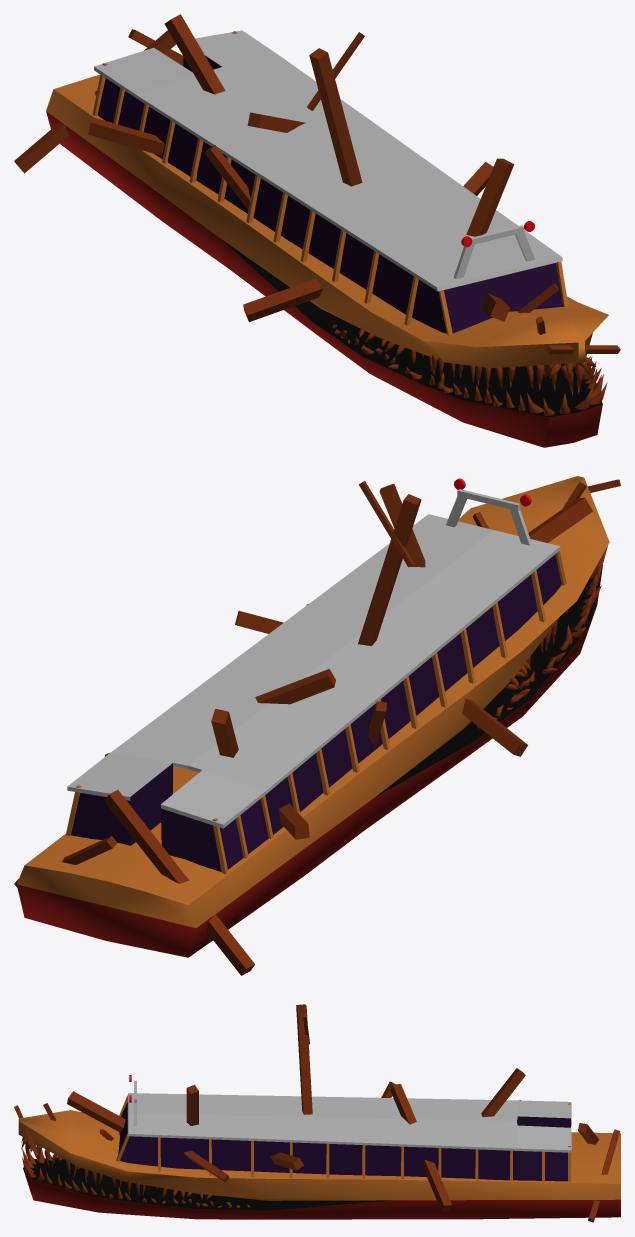
Rendered from enemy.glb.
3 views of the same model, one above another, from view 1: azimuth 30°, elevation 25°; view 2: azimuth 150°, elevation 25°; view 3: azimuth 270°, elevation 25° (orthographic). The views are drawn at different scales.
Visible parts, largest first — view 1: LanchaColectiva.002, Cube, Cube.002, Cone, Cube.001, Cube.014, Cube.011, Cube.004, Cube.012, Cube.013, Cube.017, Cube.008 (+2 smaller); view 2: LanchaColectiva.002, Cube, Cube.002, Cube.001, Cube.017, Cube.014, Cone, Cube.010, Cube.012, Cube.003, Cube.008, Cube.004 (+4 smaller); view 3: LanchaColectiva.002, Cube, Cube.002, Cone, Cube.001, Cube.010, Cube.014, Cube.003, Cube.011, Cube.004, Cube.018, Cube.005 (+1 smaller).
Part boxes in pixels (box(x1,y1,x2,y2)): LanchaColectiva.002: box(46, 75, 608, 447); Cube: box(94, 30, 562, 291); Cube.002: box(97, 55, 563, 333); Cone: box(332, 324, 607, 415); Cube.001: box(92, 31, 568, 335); Cube.014: box(309, 48, 362, 186); Cube.011: box(164, 14, 225, 94); Cube.004: box(466, 158, 514, 236); Cube.012: box(243, 278, 322, 321); Cube.013: box(88, 117, 164, 155); Cube.017: box(14, 30, 175, 173); Cube.008: box(453, 225, 534, 278); LanchaColectiva.002: box(16, 476, 609, 957); Cube: box(67, 514, 560, 828); Cube.002: box(71, 554, 561, 871); Cube.001: box(66, 551, 566, 874); Cube.017: box(104, 790, 254, 975); Cube.014: box(358, 494, 421, 646); Cone: box(477, 546, 607, 728); Cube.010: box(105, 669, 335, 756); Cube.012: box(462, 699, 527, 756); Cube.003: box(528, 497, 592, 542); Cube.008: box(446, 489, 531, 545); Cube.004: box(379, 483, 425, 567); LanchaColectiva.002: box(18, 1110, 620, 1219); Cube: box(127, 1093, 571, 1152); Cube.002: box(118, 1102, 571, 1181); Cone: box(21, 1137, 250, 1208); Cube.001: box(116, 1096, 570, 1182); Cube.010: box(390, 1084, 451, 1211); Cube.014: box(296, 1004, 312, 1114); Cube.003: box(67, 1091, 125, 1132); Cube.011: box(481, 1068, 525, 1117); Cube.004: box(186, 1084, 198, 1125); Cube.018: box(588, 1129, 620, 1222); Cube.005: box(183, 1150, 229, 1182).
Bounding box in the file's own units: 3.9 × 3.85 × 11.12.
